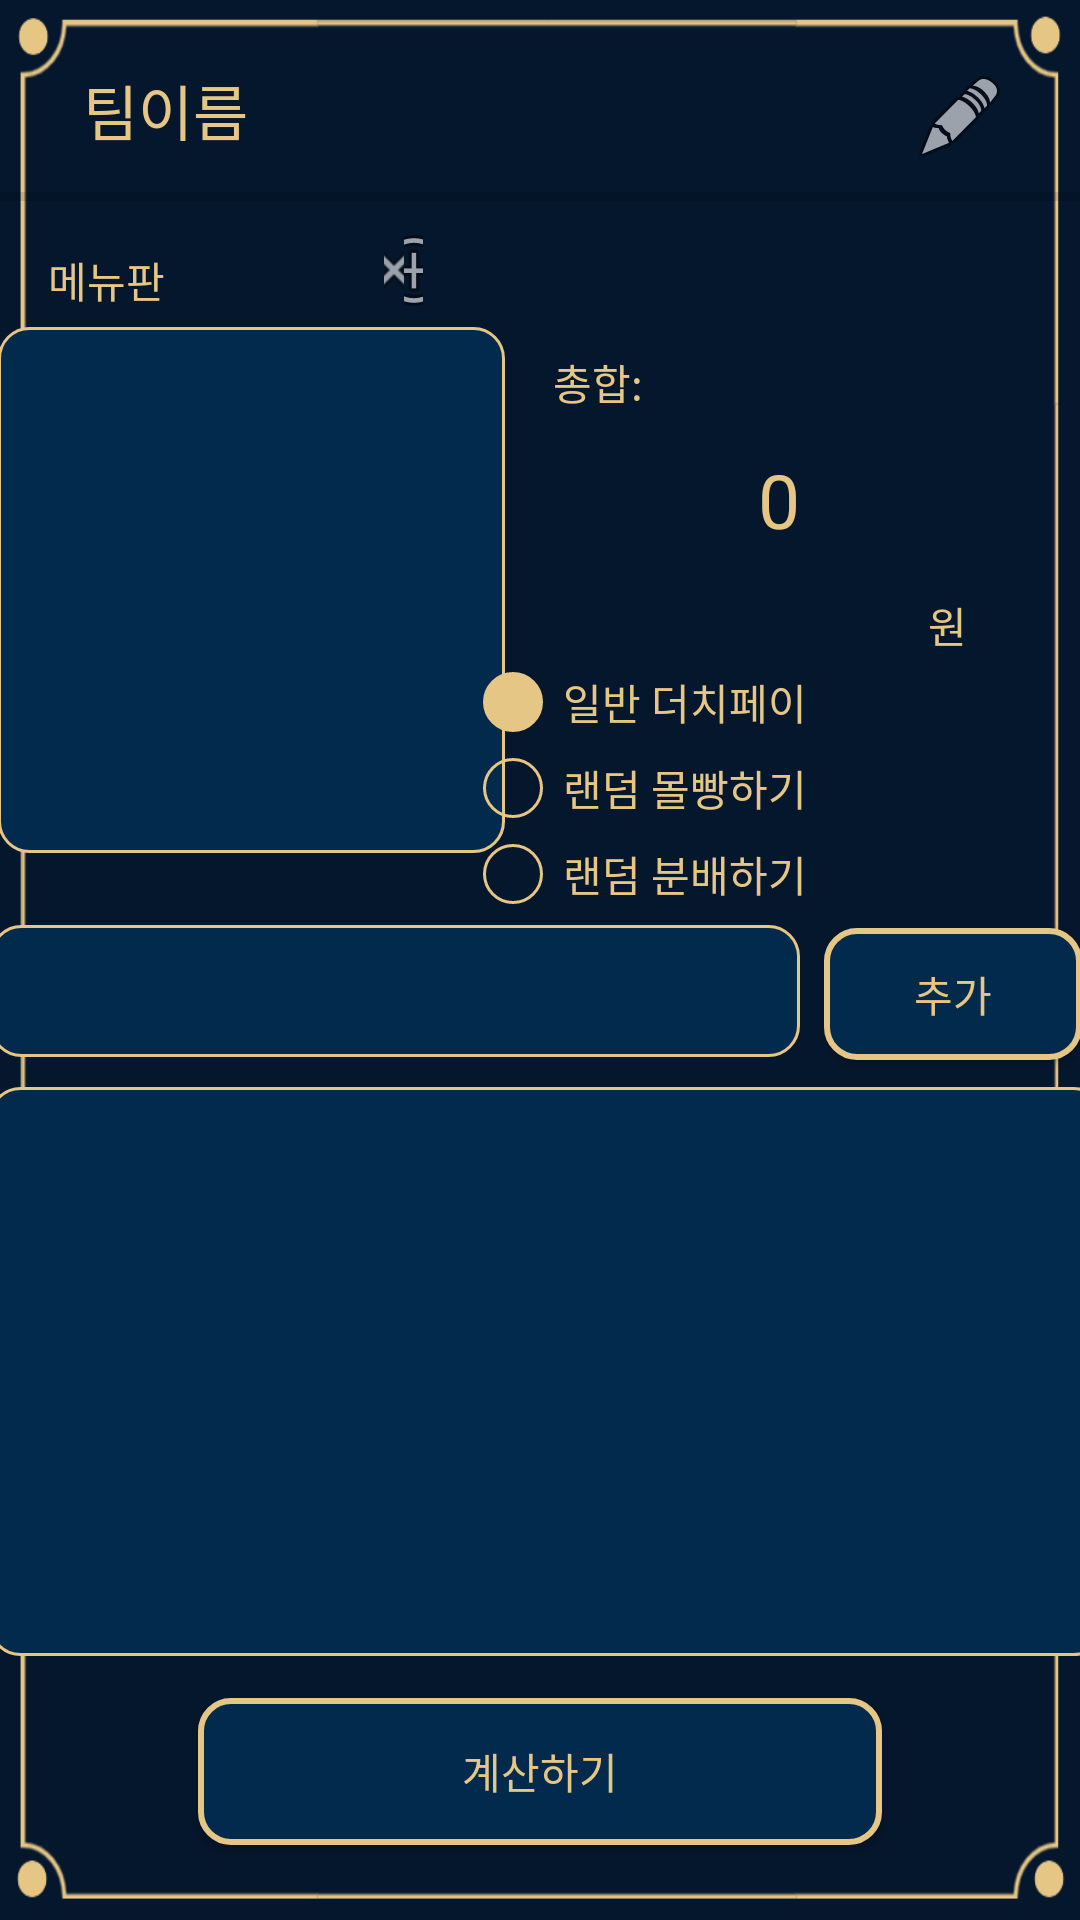

Named icons in this screenshot (1080px x 1920px) and their bounding boxes, [x1=x1, y1=y1, x2=x2, y2=y2]:
edit: [x1=922, y1=78, x2=998, y2=154]
